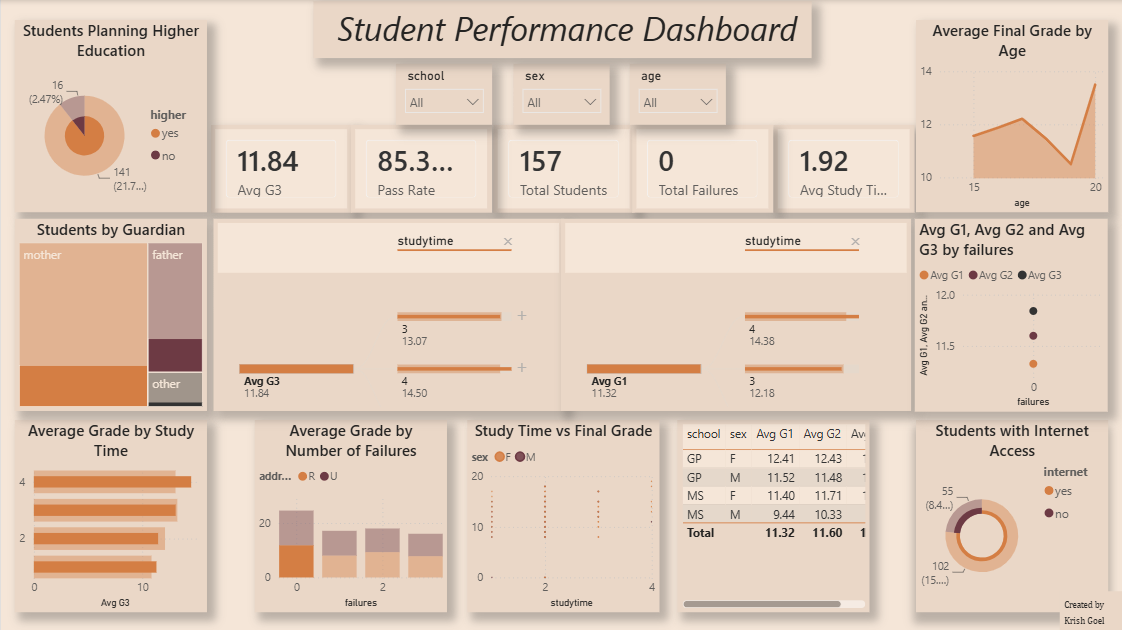

The page's visual inventory and layout, read from the dashboard file:
{"tool":"powerbi","page":{"name":"Page 1","canvas":[1280,720],"ordinal":0},"visuals":[{"type":"cardVisual","fields":{"Data":["student-por.Total Students"]},"box":[561.2,142.7,160.5,100.2],"z":0},{"type":"cardVisual","fields":{"Data":["student-por.Avg G3"]},"box":[238.8,142.7,160.5,100.2],"z":1000},{"type":"cardVisual","fields":{"Data":["student-por.Avg Study Time"]},"box":[881,142.7,160.5,100.2],"z":2000},{"type":"cardVisual","fields":{"Data":["student-por.Total Failures"]},"box":[720.4,142.7,160.5,100.2],"z":3000},{"type":"areaChart","title":"Average Final Grade by Age","fields":{"Y":["student-por.Avg G3"],"Category":["student-por.age"]},"box":[1042.9,23.3,219.6,219.6],"z":4000},{"type":"clusteredBarChart","title":"Average Grade by Study Time","fields":{"Category":["student-por.studytime"],"Y":["student-por.Avg G3"]},"box":[15.1,478.9,219.6,219.6],"z":5000},{"type":"columnChart","title":"Average Grade by Number of Failures","fields":{"Category":["student-por.failures"],"Y":["student-por.Avg G3"],"Series":["student-por.address"]},"box":[289.5,478.9,219.6,219.6],"z":6000},{"type":"pieChart","title":"Students Planning Higher Education","fields":{"Category":["student-por.higher"],"Y":["student-por.Total Students"]},"box":[15.7,22.8,219.5,219.5],"z":7000},{"type":"donutChart","title":"Students with Internet Access","fields":{"Category":["student-por.internet"],"Y":["student-por.Total Students"]},"box":[1041.5,478.9,219.6,219.6],"z":8000},{"type":"scatterChart","title":"Study Time vs Final Grade","fields":{"X":["student-por.studytime"],"Y":["student-por.G3"],"Size":["Sum(student-por.failures)"],"Series":["student-por.sex"]},"box":[531,478.9,219.6,219.6],"z":9000},{"type":"treemap","title":"Students by Guardian","fields":{"Group":["student-por.guardian"],"Values":["student-por.Total Students"]},"box":[15.1,249.7,219.6,219.6],"z":10000},{"type":"tableEx","fields":{"Values":["student-por.school","student-por.sex","student-por.Avg G1","student-por.Avg G2","student-por.Avg G3"]},"box":[771.2,478.9,219.6,219.6],"z":11000},{"type":"cardVisual","fields":{"Data":["student-por.Pass Rate"]},"box":[399.3,142.7,160.5,100.2],"z":12000},{"type":"slicer","fields":{"Values":["student-por.sex"]},"box":[585,72.7,109.8,70],"z":13000},{"type":"slicer","fields":{"Values":["student-por.school"]},"box":[450.1,72.7,109.8,70],"z":14000},{"type":"slicer","fields":{"Values":["student-por.age"]},"box":[716.3,72.7,109.8,70],"z":15000},{"type":"textbox","box":[356,1.4,568.1,64.5],"z":16000},{"type":"decompositionTreeVisual","fields":{"Analyze":["student-por.Avg G3"],"ExplainBy":["student-por.studytime","student-por.failures","student-por.Fedu","student-por.internet","student-por.higher"]},"box":[242.9,249.7,399.3,219.6],"z":17000},{"type":"decompositionTreeVisual","fields":{"Analyze":["student-por.Avg G1"],"ExplainBy":["student-por.studytime"]},"box":[638.1,249.7,399.3,219.6],"z":18000},{"type":"lineChart","fields":{"Y":["student-por.Avg G1","student-por.Avg G2","student-por.Avg G3"],"Category":["student-por.failures"]},"box":[1042,250,220,220],"z":19000},{"type":"textbox","box":[1207.3,674.2,72.7,45.6],"z":19001}]}

Visuals, with their boxes in screenshot pixels (x1, y1, x2, y2), scaled from the page's 1280x720 canvas onto the 1122x630 screenshot:
cardVisual - student-por.Total Students: (x1=492, y1=125, x2=633, y2=213)
cardVisual - student-por.Avg G3: (x1=209, y1=125, x2=350, y2=213)
cardVisual - student-por.Avg Study Time: (x1=772, y1=125, x2=913, y2=213)
cardVisual - student-por.Total Failures: (x1=631, y1=125, x2=772, y2=213)
"Average Final Grade by Age" areaChart: (x1=914, y1=20, x2=1107, y2=213)
"Average Grade by Study Time" clusteredBarChart: (x1=13, y1=419, x2=206, y2=611)
"Average Grade by Number of Failures" columnChart: (x1=254, y1=419, x2=446, y2=611)
"Students Planning Higher Education" pieChart: (x1=14, y1=20, x2=206, y2=212)
"Students with Internet Access" donutChart: (x1=913, y1=419, x2=1105, y2=611)
"Study Time vs Final Grade" scatterChart: (x1=465, y1=419, x2=658, y2=611)
"Students by Guardian" treemap: (x1=13, y1=218, x2=206, y2=411)
tableEx - student-por.school x student-por.sex: (x1=676, y1=419, x2=868, y2=611)
cardVisual - student-por.Pass Rate: (x1=350, y1=125, x2=491, y2=213)
slicer - student-por.sex: (x1=513, y1=64, x2=609, y2=125)
slicer - student-por.school: (x1=395, y1=64, x2=491, y2=125)
slicer - student-por.age: (x1=628, y1=64, x2=724, y2=125)
textbox: (x1=312, y1=1, x2=810, y2=58)
decompositionTreeVisual - student-por.Avg G3 x student-por.studytime: (x1=213, y1=218, x2=563, y2=411)
decompositionTreeVisual - student-por.Avg G1 x student-por.studytime: (x1=559, y1=218, x2=909, y2=411)
lineChart - student-por.Avg G1 x student-por.Avg G2: (x1=913, y1=219, x2=1106, y2=411)
textbox: (x1=1058, y1=590, x2=1121, y2=629)
